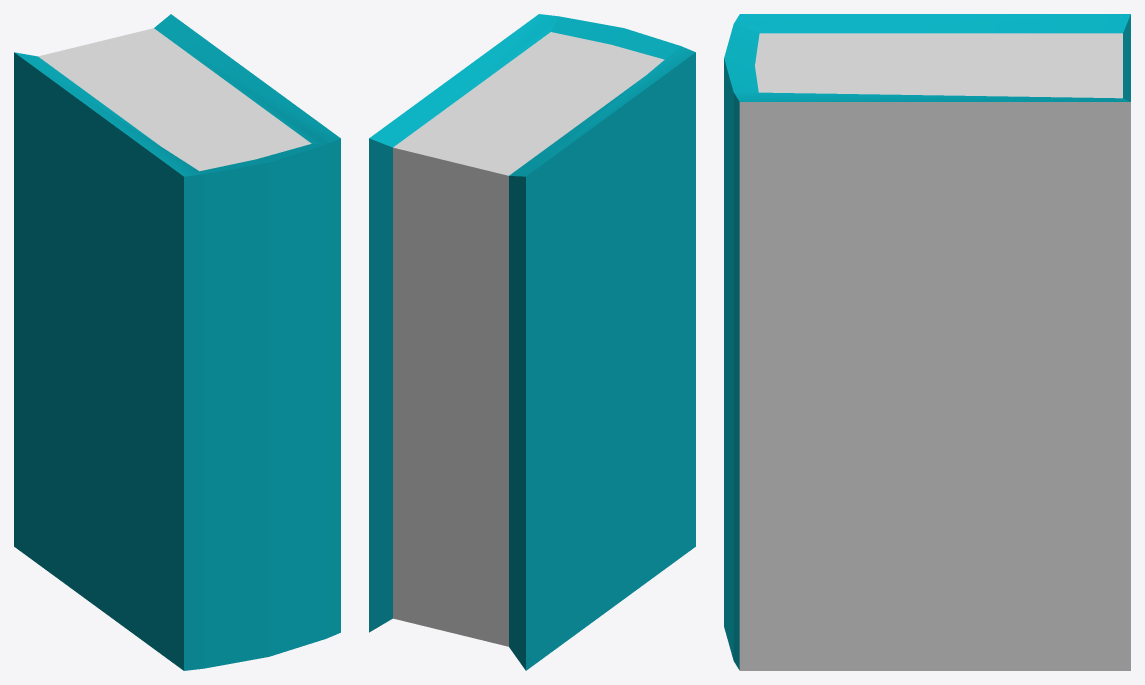
File: Book.3.fbx
3 renders of one model, left to right at view 1: azimuth 30°, elevation 25°; view 2: azimuth 150°, elevation 25°; view 3: azimuth 270°, elevation 25°, orthographic. The views are drawn at different scales.
Parts seen in each view (by area): view 1: Book_3; view 2: Book_3; view 3: Book_3.
Boxes of the visible parts, x1,y1,x2,y2 form: Book_3: [14, 14, 340, 670]; Book_3: [369, 14, 695, 670]; Book_3: [724, 14, 1130, 670].
Bounding box in the file's own units: 23.26 × 70.02 × 45.38.
